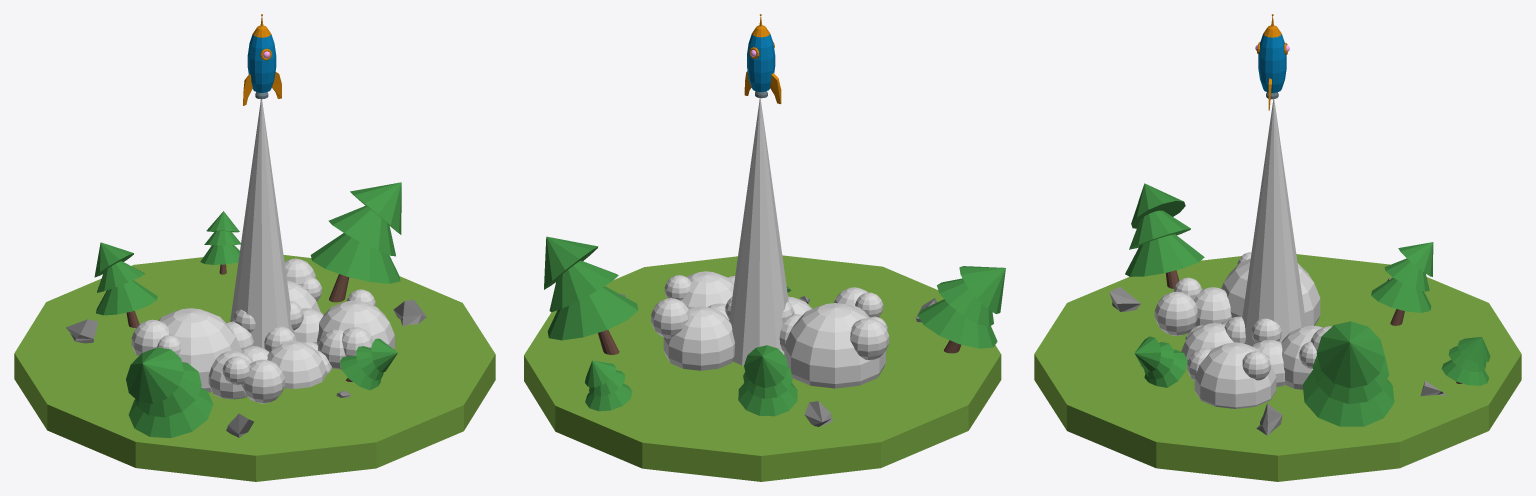
The picture shows the model from 3 angles, left to right: view 1: azimuth 30°, elevation 25°; view 2: azimuth 150°, elevation 25°; view 3: azimuth 270°, elevation 25°; orthographic projection.
Visible parts, largest first — view 1: node_MeshObject236508800-PolyPaper21, node_MeshObject1273948928-PolyPaper21; view 2: node_MeshObject236508800-PolyPaper21, node_MeshObject1273948928-PolyPaper21; view 3: node_MeshObject236508800-PolyPaper21, node_MeshObject1273948928-PolyPaper21.
Part boxes in pixels (bbox=[...]): node_MeshObject236508800-PolyPaper21: bbox=[14, 14, 495, 481]; node_MeshObject1273948928-PolyPaper21: bbox=[66, 48, 394, 392]; node_MeshObject236508800-PolyPaper21: bbox=[524, 14, 1005, 481]; node_MeshObject1273948928-PolyPaper21: bbox=[585, 42, 887, 426]; node_MeshObject236508800-PolyPaper21: bbox=[1034, 14, 1521, 481]; node_MeshObject1273948928-PolyPaper21: bbox=[1144, 42, 1490, 408].
Size of the model in its own units: 4.65 by 4 by 4.7.
